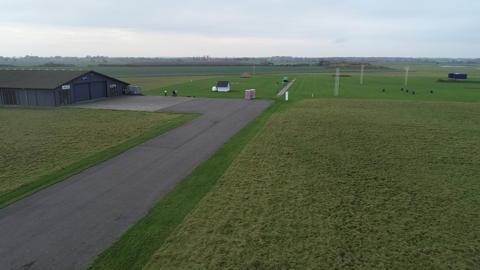RockwoolPallet: (249, 89, 257, 100)
